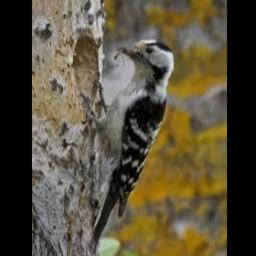Woodpecker: (92, 39, 174, 247)
